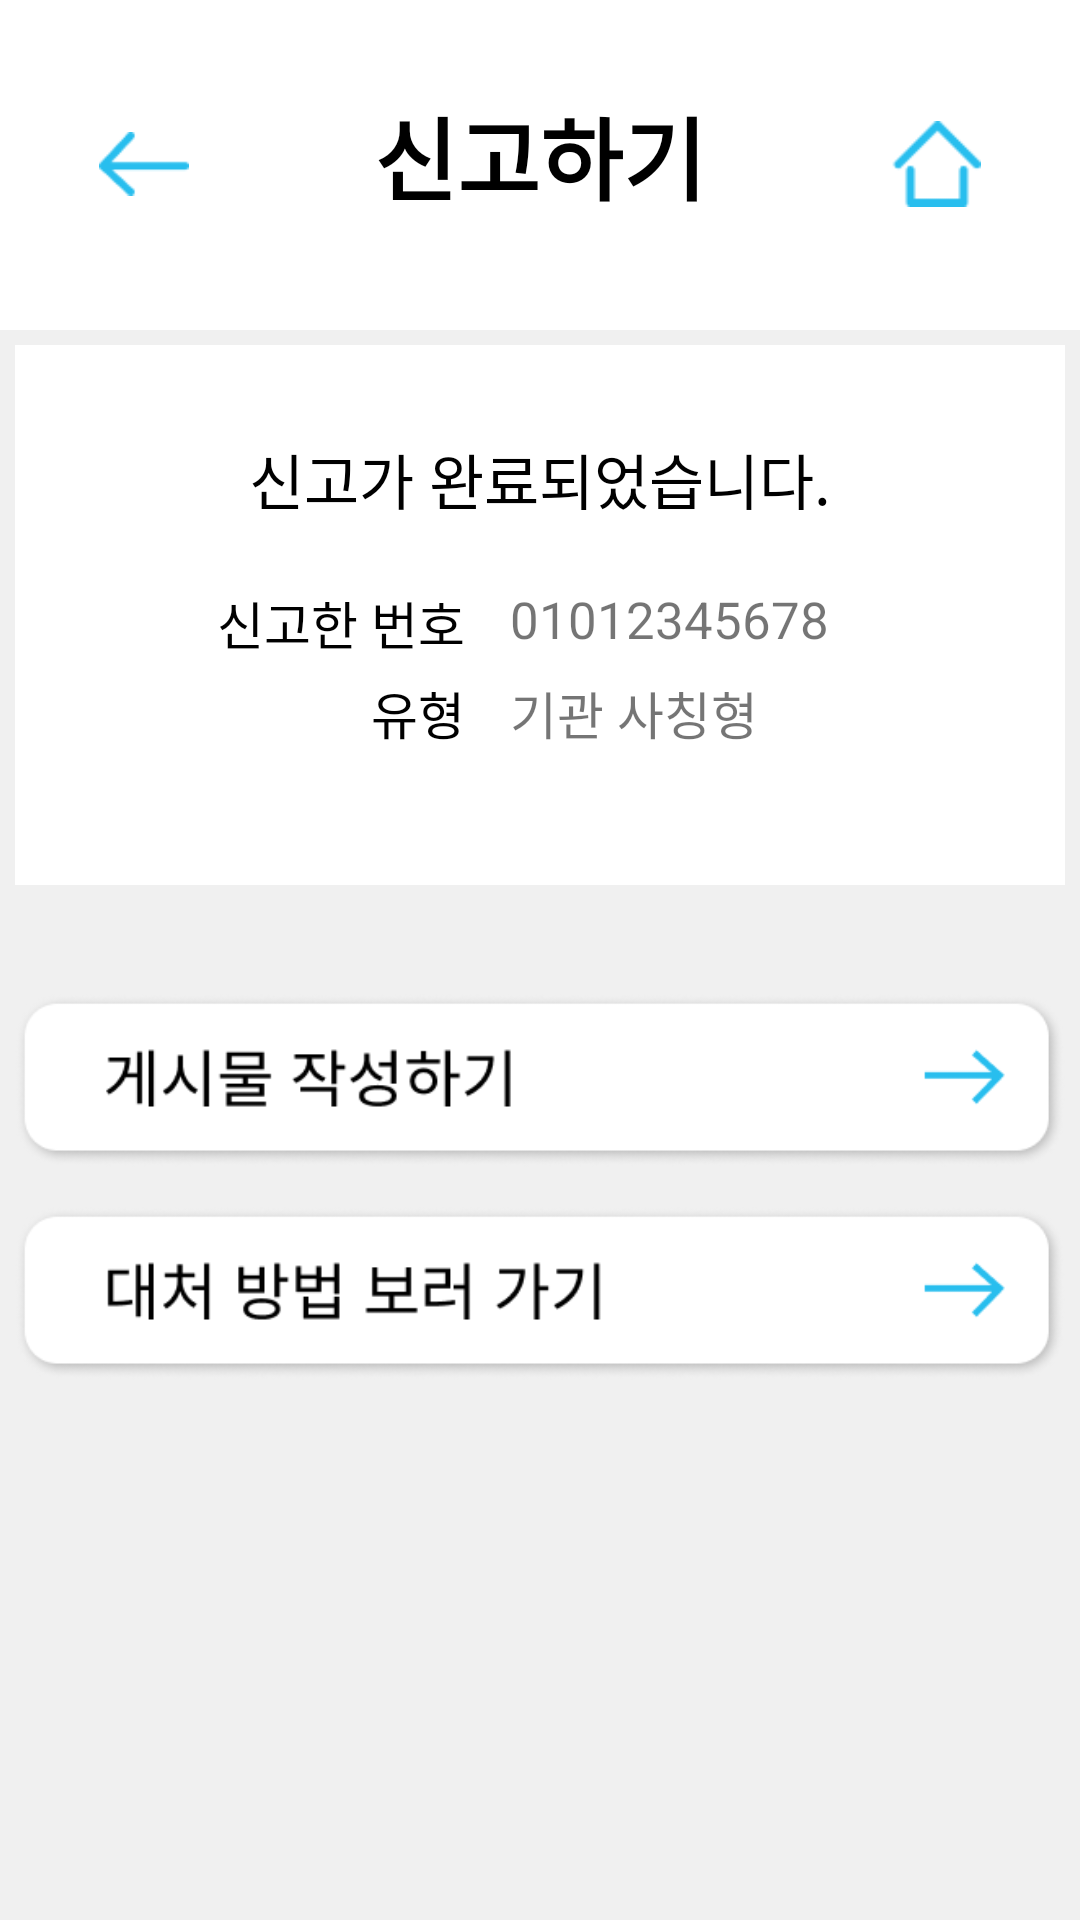

Locate icon controls on the screen. Image size 1080 x 1920, boxes as (x1, y1, x2, y2).
backbtn: (99, 132, 189, 196)
homebtn: (893, 121, 981, 207)
